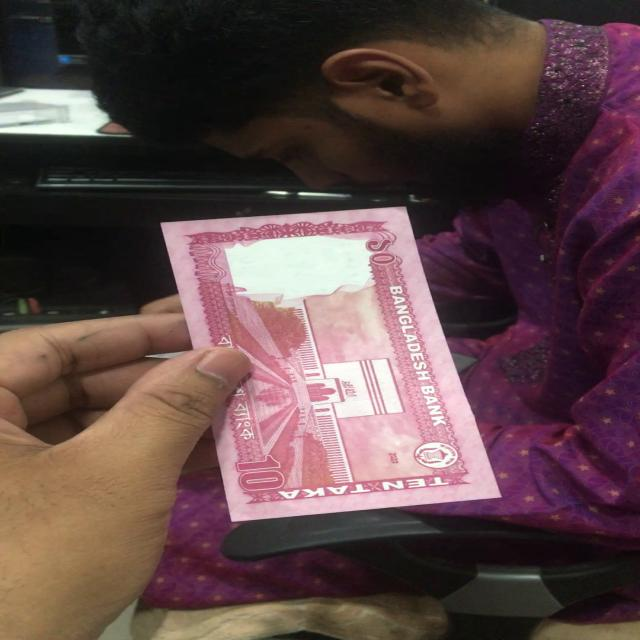Taka: (160, 212, 505, 511)
